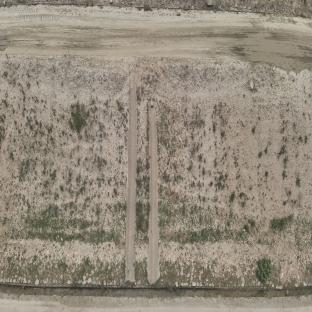rock_toe: (163, 239, 311, 283), (0, 234, 122, 281)
slope_drain: (125, 74, 137, 282), (147, 106, 160, 284)
toe_drain: (0, 283, 312, 298)
vegetation: (257, 257, 272, 281)
